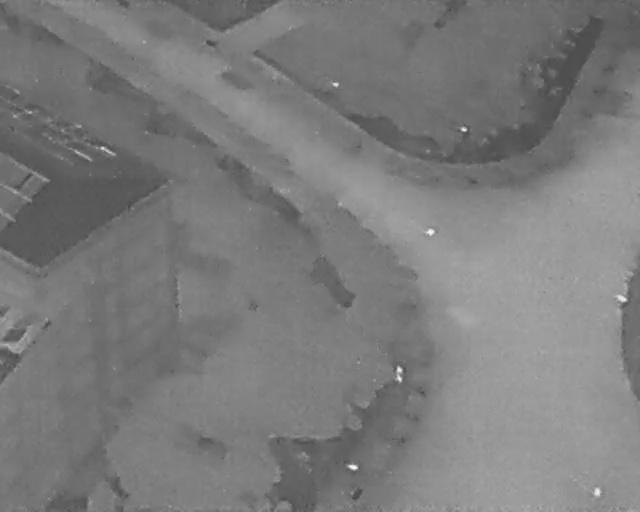Person: (395, 365, 403, 385)
